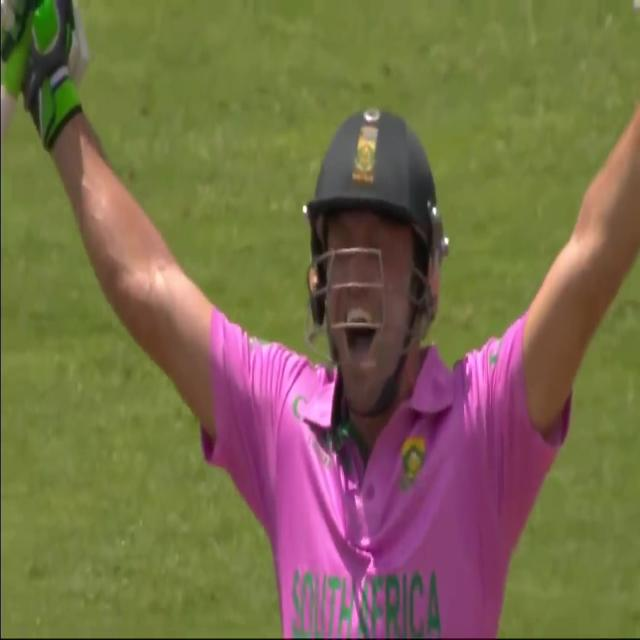Ball: (121, 39, 640, 636)
